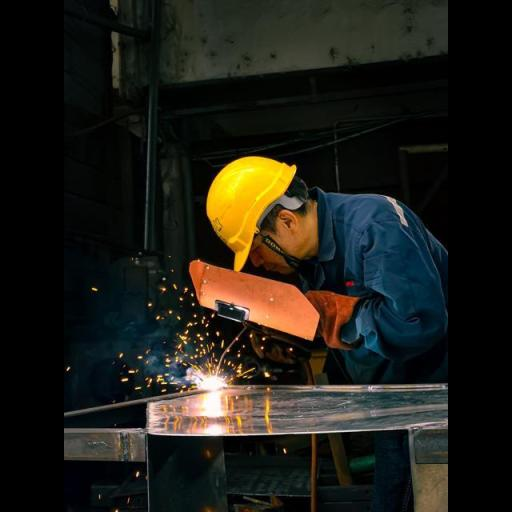Person: (140, 108, 479, 385)
helmet: (194, 146, 304, 276)
